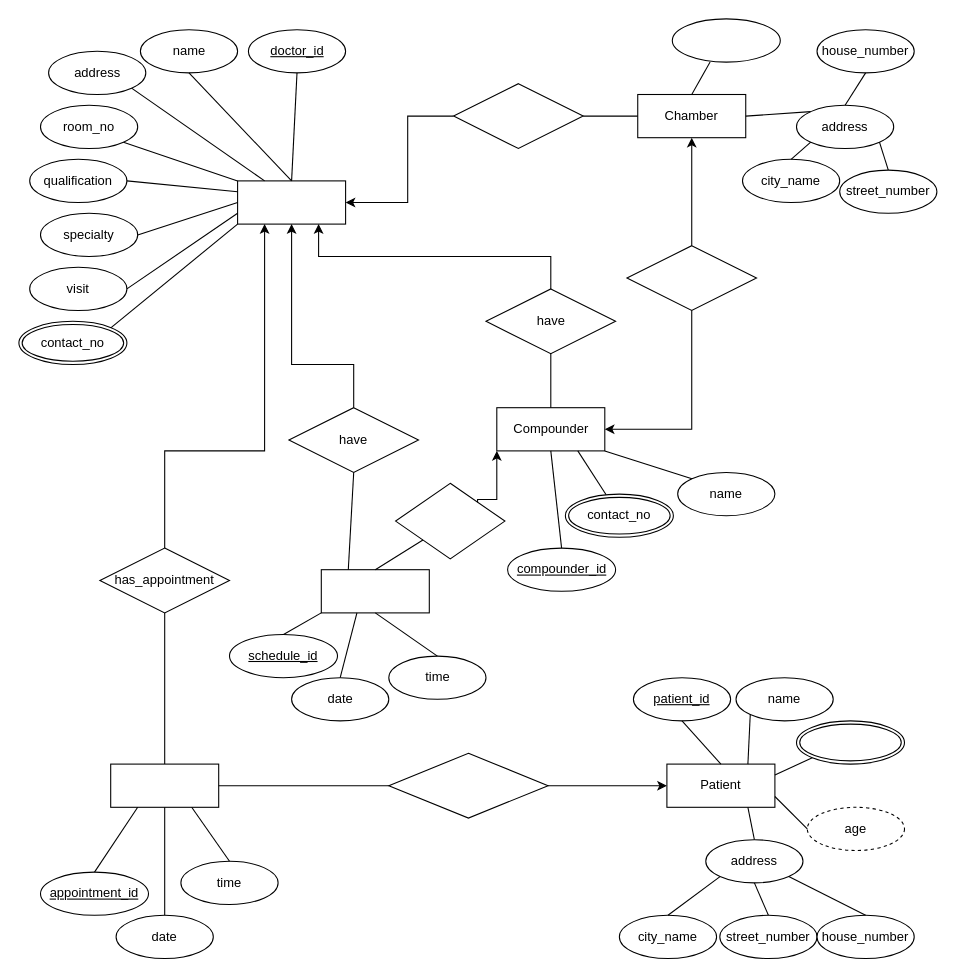
The diagram is 956 pixels wide and 977 high, and some of its shapes have lost their labels. Each missing label, with the centre of its shape:
"Appointment" belongs at point (164, 785).
"associated" belongs at point (518, 115).
"chamber_id" belongs at point (725, 40).
"Doctor" belongs at point (291, 202).
"maintain" belongs at point (691, 277).
"manage" belongs at point (450, 520).
"mobile_no" belongs at point (850, 742).
"Schedule" belongs at point (374, 591).
"take_appointment" belongs at point (468, 785).
